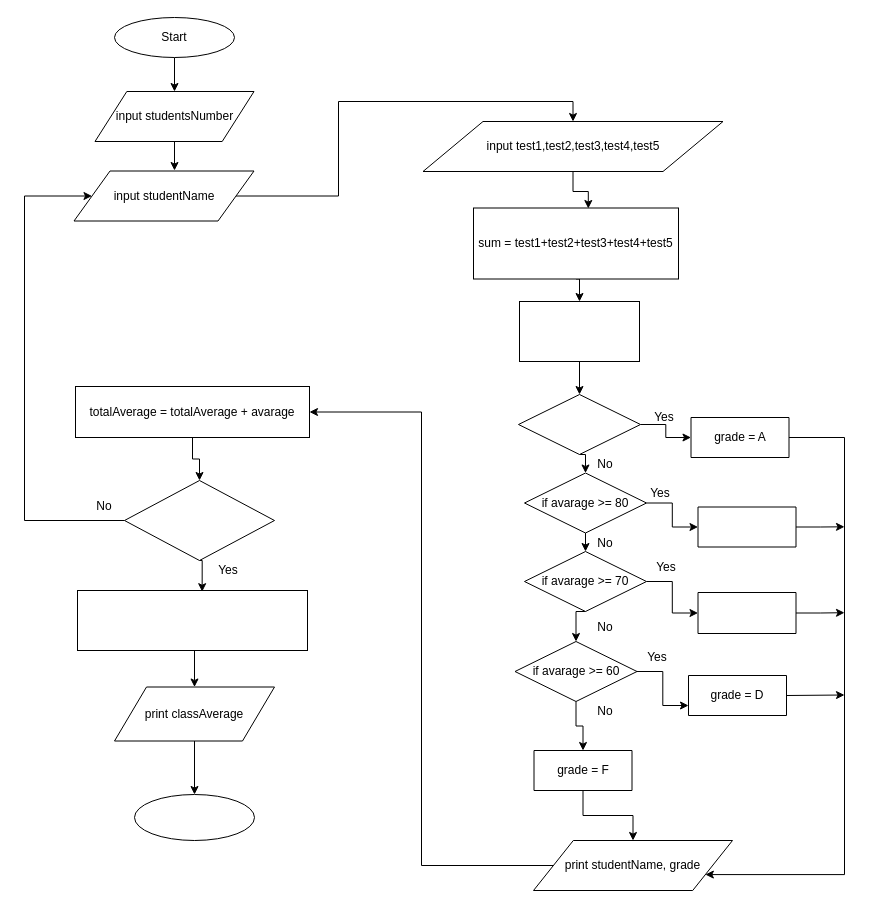
This 870x908 diagram has some shape labels left out. Each missing label, with the centre of its shape:
"average = sum / 5" goes at (x=579, y=331).
"classAverage = totalAverage / 10" goes at (x=192, y=620).
"End" goes at (x=194, y=817).
"grade = B" goes at (x=746, y=526).
"grade = C" goes at (x=746, y=613).
"if avarage >= 90" goes at (x=579, y=424).
"N <= studentsNumber" goes at (x=199, y=520).
